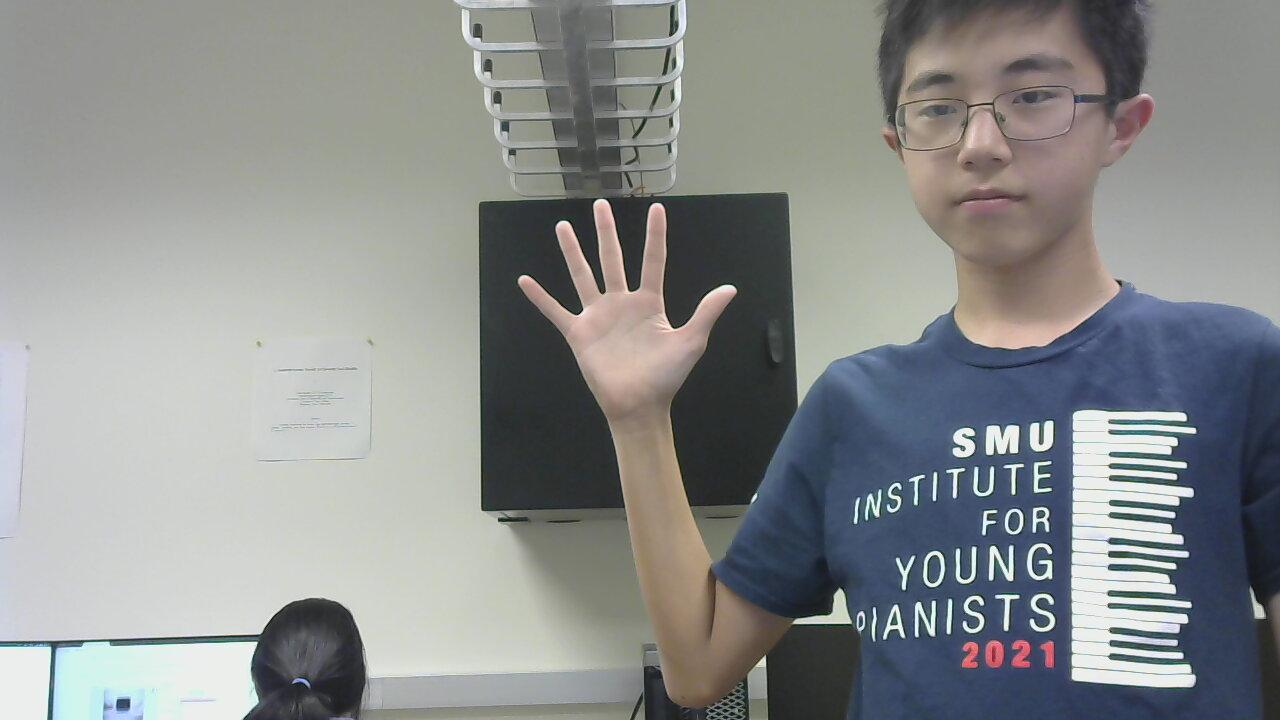hands: (511, 190, 739, 417)
